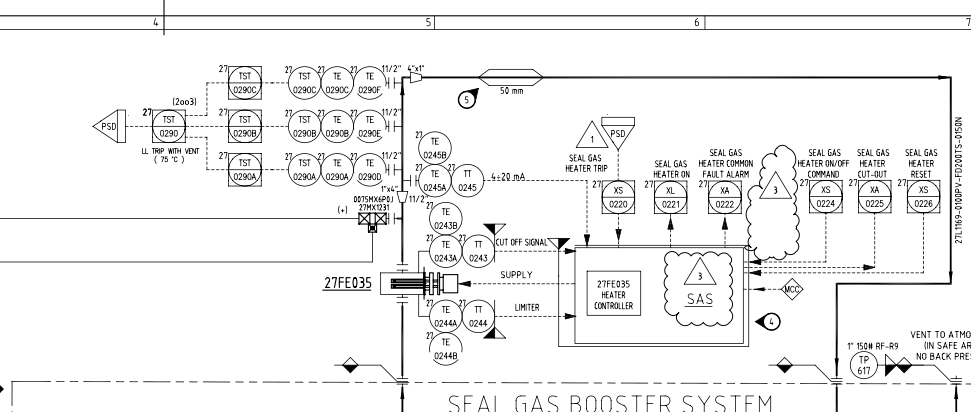Instrument: (444, 160, 487, 202), (282, 148, 323, 189), (422, 328, 464, 368), (459, 232, 498, 275), (458, 295, 497, 335), (348, 150, 388, 189), (316, 150, 355, 190), (316, 62, 355, 102), (422, 200, 464, 237), (424, 232, 463, 270), (348, 107, 386, 146), (316, 107, 355, 145), (350, 62, 388, 101), (281, 107, 321, 144), (412, 162, 453, 198), (413, 125, 451, 163), (281, 63, 321, 99), (421, 298, 460, 330)
Instrument-square: (214, 149, 268, 191), (213, 105, 268, 146), (796, 177, 849, 217), (643, 176, 692, 217), (216, 62, 264, 103), (696, 179, 746, 218), (142, 105, 192, 144), (897, 178, 946, 217), (849, 178, 896, 217), (591, 178, 638, 217)
